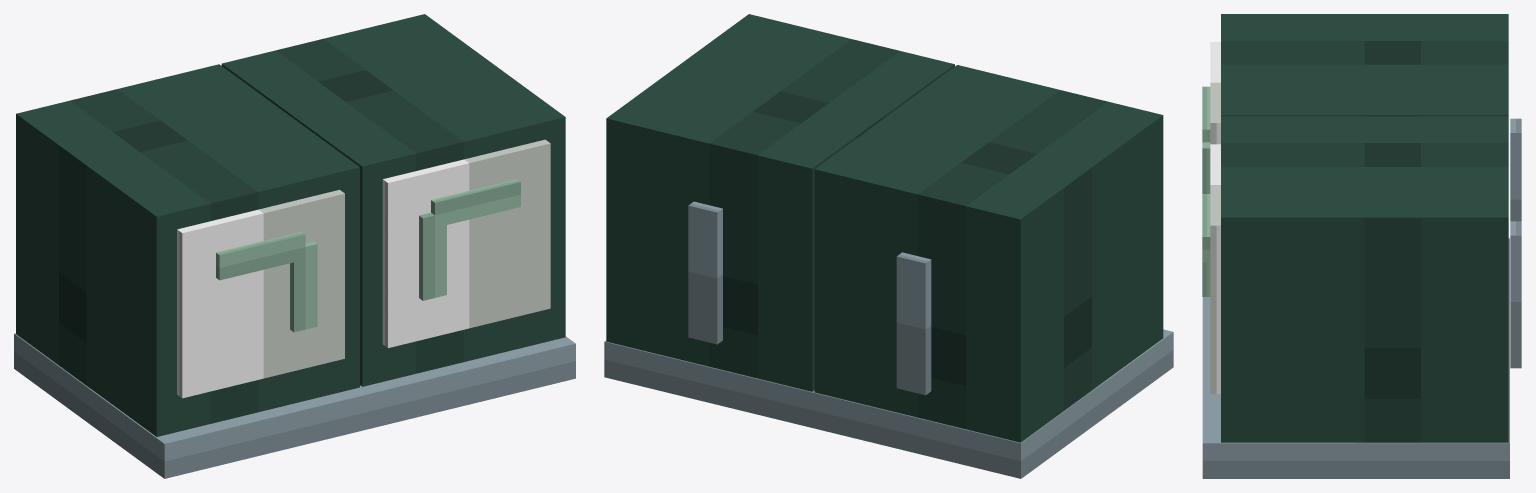
The model's file is zhuji_baiqing_lingyun_boots.obj.
3 views of the same model, side by side, from view 1: azimuth 30°, elevation 25°; view 2: azimuth 150°, elevation 25°; view 3: azimuth 270°, elevation 25° (orthographic). The views are drawn at different scales.
Visible parts, largest first — view 1: cloud_boot_-1, cloud_boot_1, cloud_boot_face_1, cloud_boot_face_-1, cloud_sole_-1, cloud_sole_1, cloud_boot_glyph_-1_0, cloud_boot_glyph_1_0, cloud_boot_glyph_-1_1, cloud_boot_glyph_1_1; view 2: cloud_boot_-1, cloud_boot_1, cloud_sole_-1, cloud_sole_1, cloud_heel_-1, cloud_heel_1; view 3: cloud_boot_1, cloud_boot_-1, cloud_sole_1, cloud_boot_face_1, cloud_heel_1, cloud_heel_-1, cloud_boot_face_-1, cloud_boot_glyph_1_0, cloud_sole_-1, cloud_boot_glyph_-1_0, cloud_boot_glyph_-1_1.
Boxes of the visible parts, x1=… form: cloud_boot_-1: x1=16, y1=64, x2=359, y2=436; cloud_boot_1: x1=221, y1=14, x2=565, y2=386; cloud_boot_face_1: x1=382, y1=139, x2=550, y2=347; cloud_boot_face_-1: x1=177, y1=189, x2=344, y2=398; cloud_sole_-1: x1=14, y1=333, x2=370, y2=478; cloud_sole_1: x1=360, y1=336, x2=575, y2=428; cloud_boot_glyph_-1_0: x1=216, y1=231, x2=305, y2=280; cloud_boot_glyph_1_0: x1=431, y1=179, x2=520, y2=227; cloud_boot_glyph_-1_1: x1=290, y1=241, x2=317, y2=332; cloud_boot_glyph_1_1: x1=419, y1=212, x2=446, y2=300; cloud_boot_-1: x1=814, y1=65, x2=1163, y2=442; cloud_boot_1: x1=606, y1=14, x2=954, y2=391; cloud_sole_-1: x1=812, y1=329, x2=1173, y2=478; cloud_sole_1: x1=604, y1=341, x2=814, y2=427; cloud_heel_-1: x1=896, y1=252, x2=931, y2=395; cloud_heel_1: x1=688, y1=201, x2=722, y2=344; cloud_boot_1: x1=1221, y1=116, x2=1508, y2=442; cloud_boot_-1: x1=1221, y1=14, x2=1508, y2=116; cloud_sole_1: x1=1202, y1=340, x2=1509, y2=478; cloud_boot_face_1: x1=1210, y1=144, x2=1220, y2=394; cloud_heel_1: x1=1510, y1=221, x2=1521, y2=368; cloud_heel_-1: x1=1510, y1=118, x2=1521, y2=221; cloud_boot_face_-1: x1=1210, y1=42, x2=1220, y2=144; cloud_boot_glyph_1_0: x1=1202, y1=194, x2=1210, y2=262; cloud_sole_-1: x1=1202, y1=238, x2=1509, y2=340; cloud_boot_glyph_-1_0: x1=1202, y1=86, x2=1210, y2=142; cloud_boot_glyph_-1_1: x1=1202, y1=142, x2=1210, y2=193.
Size of the model in its own units: 0.5375 by 0.3187 by 0.3537.
